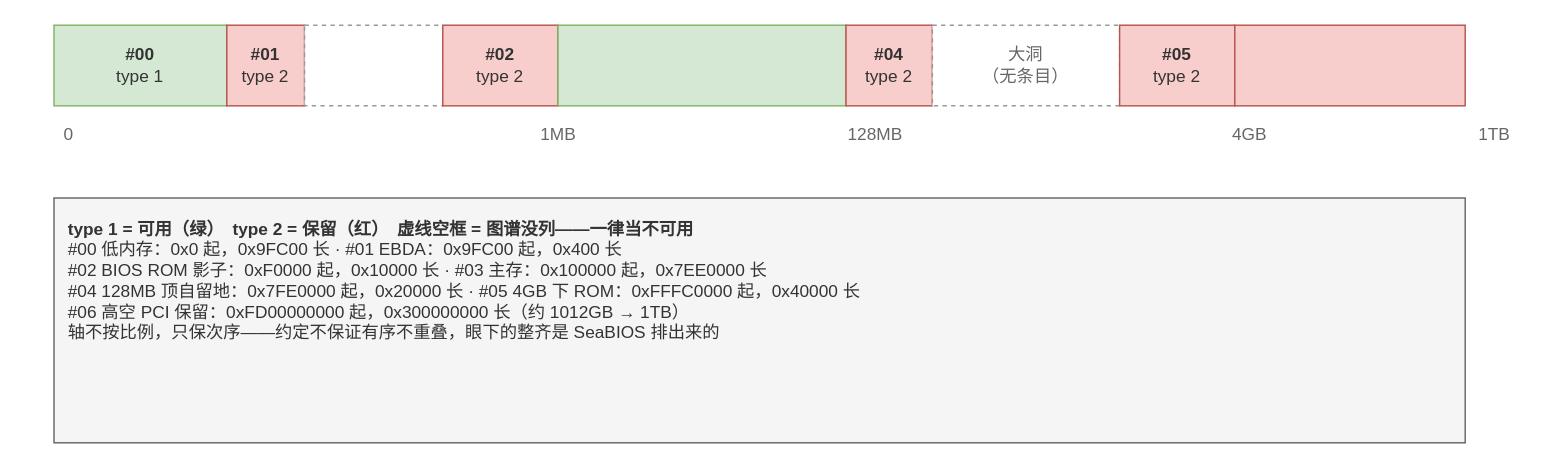
Image size: 1561x468. Some labels were removed from this diagram. Each missing label, with the centre of its shape:
"#03 type 1（主存）" goes at [701,65].
"#06 type 2（高空 PCI）" goes at [1349,65].
"老显存 （无条目）" goes at [373,65].
